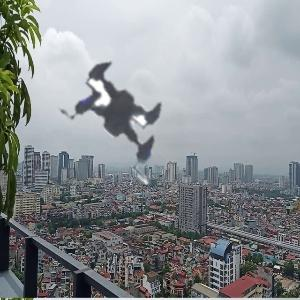drone: (15, 10, 223, 218)
